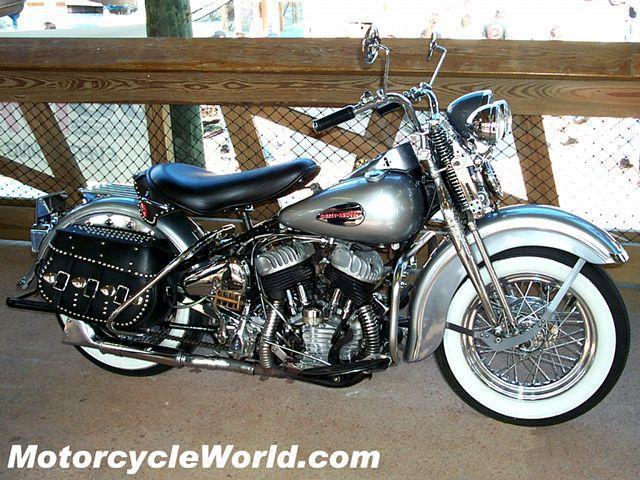motorcycle: (1, 62, 640, 440)
